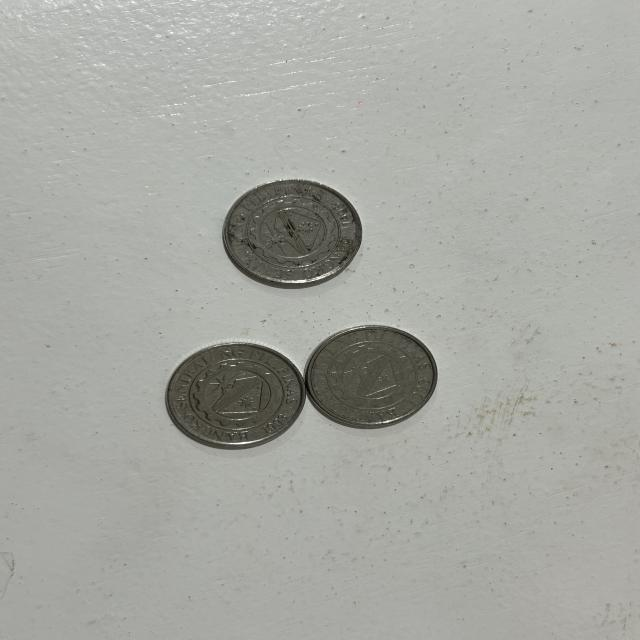1_Old_Back: (239, 191, 345, 271), (183, 353, 291, 431), (322, 339, 426, 418)
